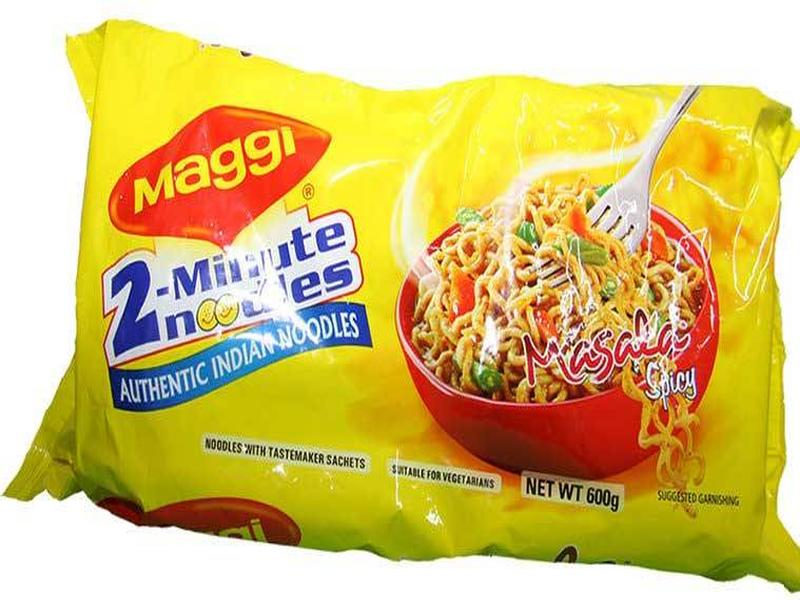maggi-family: (67, 26, 800, 571)
